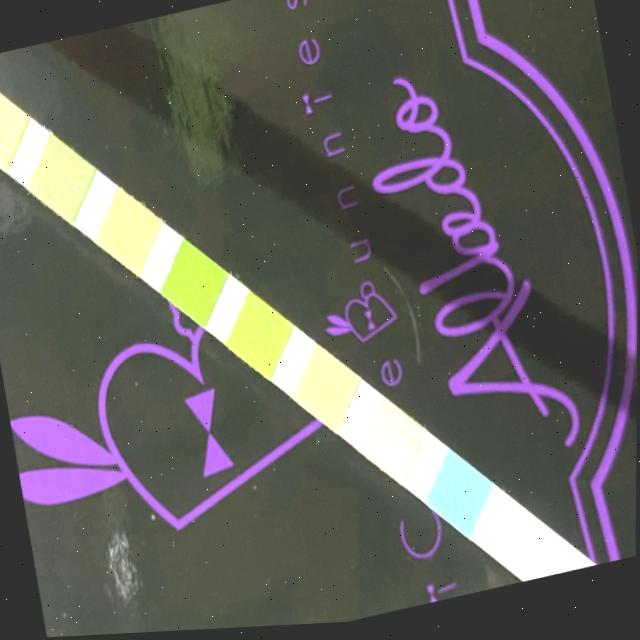Bilirubin: (373, 411, 411, 474)
Blood: (175, 251, 212, 315)
Glucose: (440, 464, 478, 528)
Ketone: (308, 359, 345, 423)
Protein: (42, 146, 79, 210)
SpGravity: (239, 303, 277, 367)
Urobilinogen: (0, 92, 12, 155)
pH: (109, 199, 146, 262)
